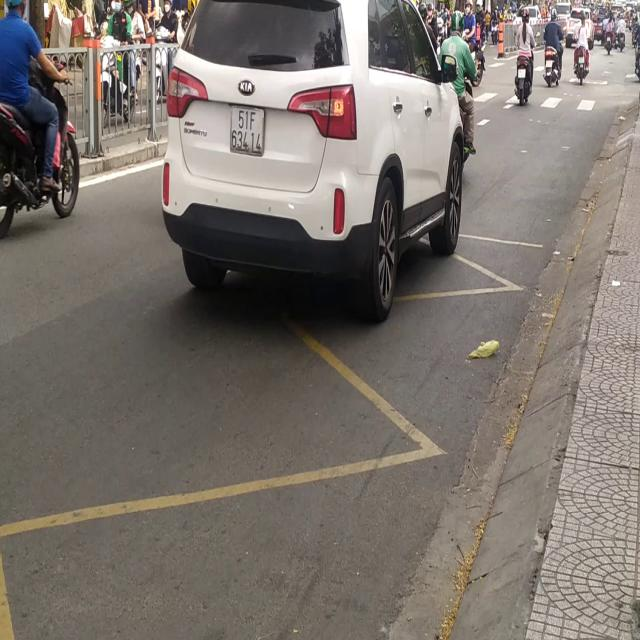bien_trang: (226, 100, 263, 157)
